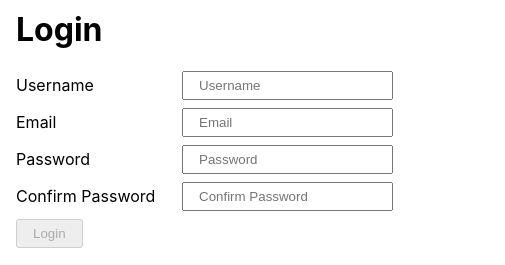
Test: Login Page › renders email input error message
In the field labelled "Email": point(288, 122) [182,108,393,137], type "johnkk.n"
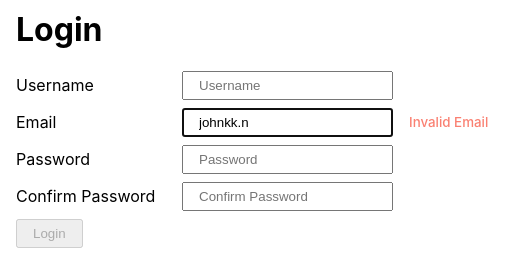
Expected: the text "Invalid Email" is shown, [409,114,488,130]
